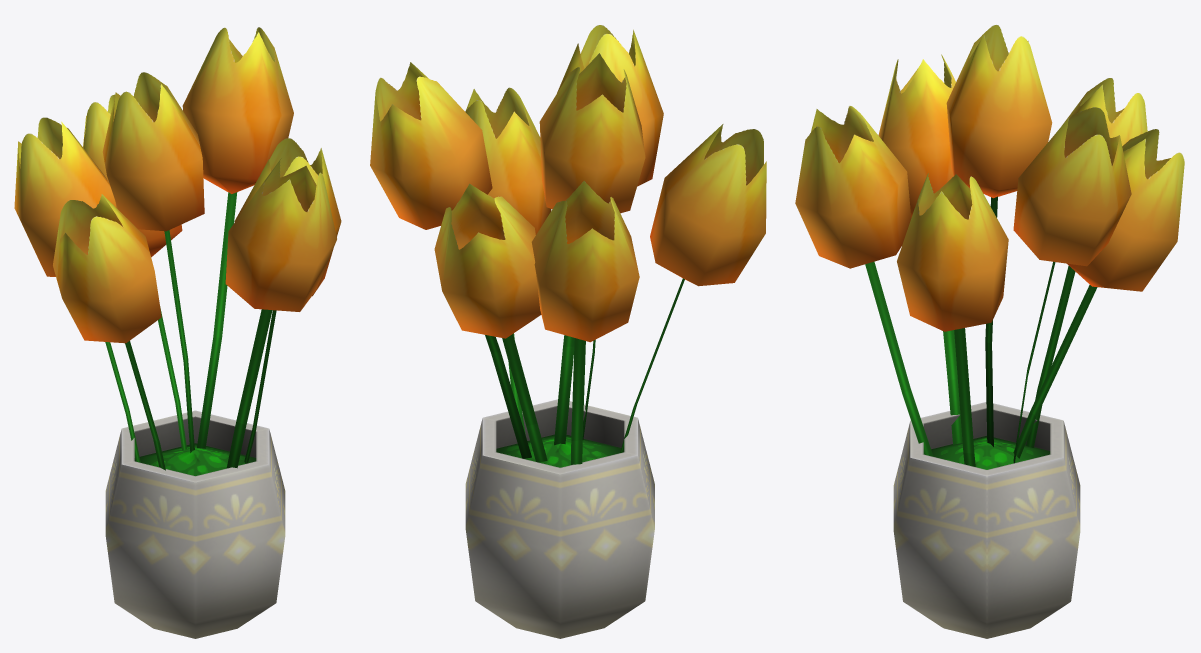
Rendered from TulipPot_02.FBX.
3 views of the same model, side by side, from view 1: azimuth 30°, elevation 25°; view 2: azimuth 150°, elevation 25°; view 3: azimuth 270°, elevation 25° (orthographic). The views are drawn at different scales.
Parts seen in each view (by area): view 1: TulipPot_02; view 2: TulipPot_02; view 3: TulipPot_02.
Boxes of the visible parts, x1,y1,x2,y2 form: TulipPot_02: [14, 27, 341, 638]; TulipPot_02: [370, 25, 766, 638]; TulipPot_02: [795, 25, 1184, 638].
Size of the model in its own units: 0.2901 by 0.5241 by 0.3229.
